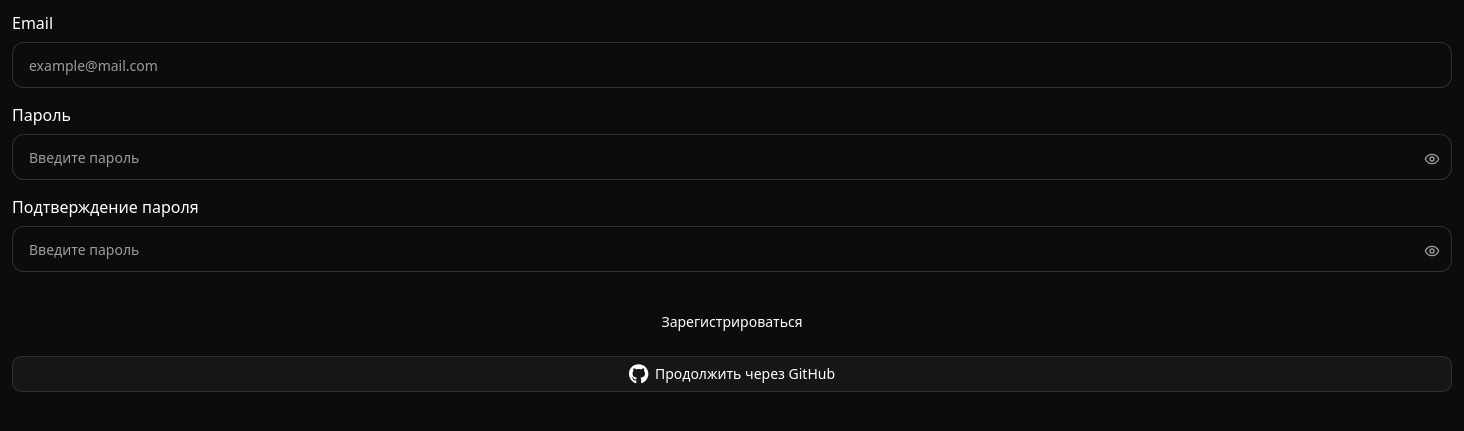
Test: RegisterForm Integration Flow (T032) › validation: блокирует отправку при пустом email
The image size is (1464, 431).
Type "Password12345!" into the password field labelled "Пароль" at (732, 157), box [12,134,1452,180]
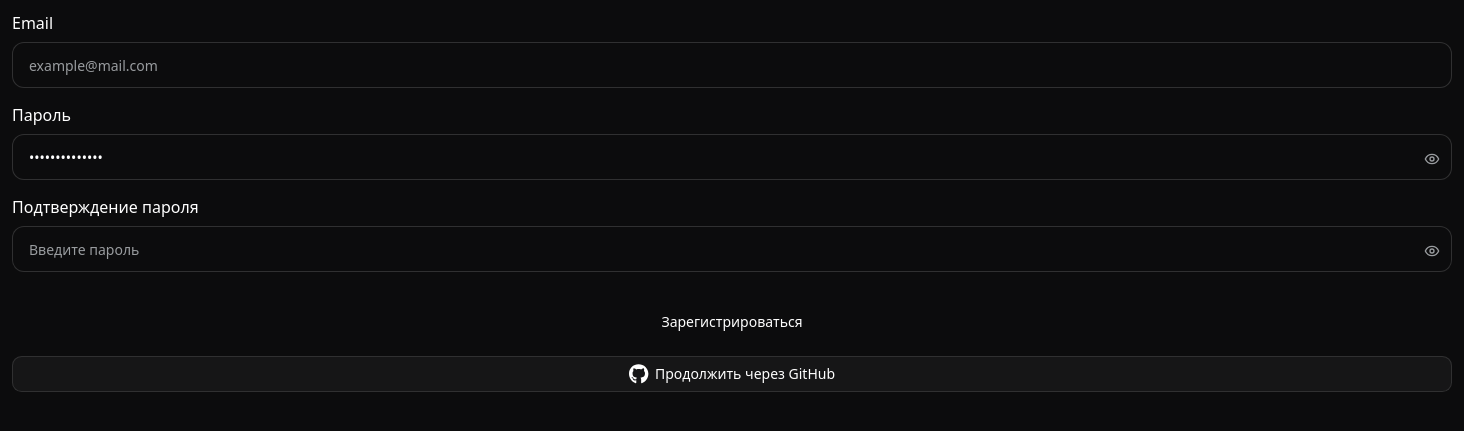
Type "Password12345!" into the password field labelled "Подтверждение пароля" at (732, 249), box [12,226,1452,272]
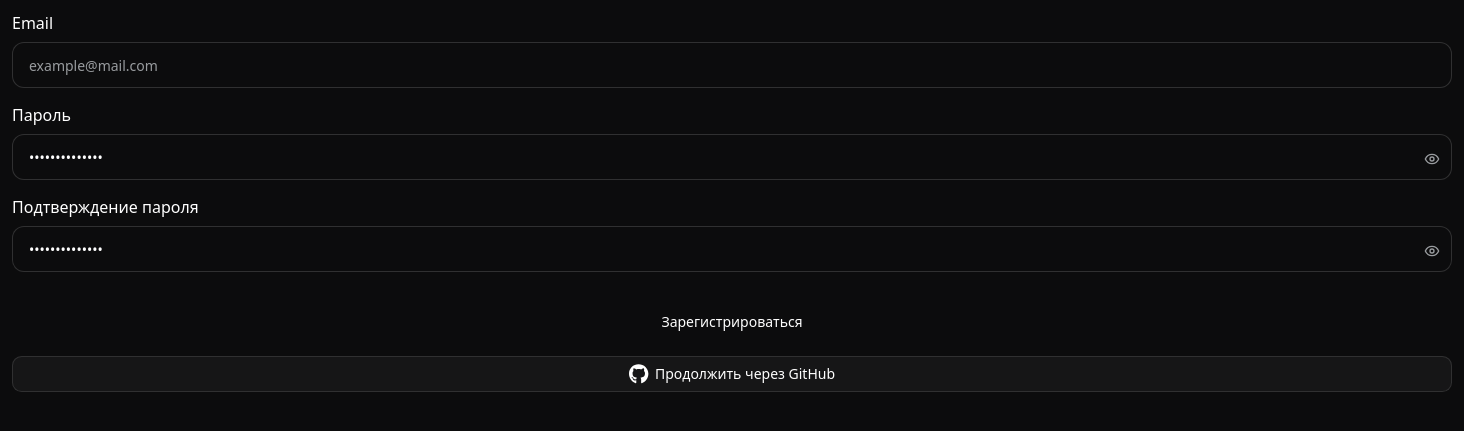
Click the button "Зарегистрироваться" at (732, 322), box [12,304,1452,340]
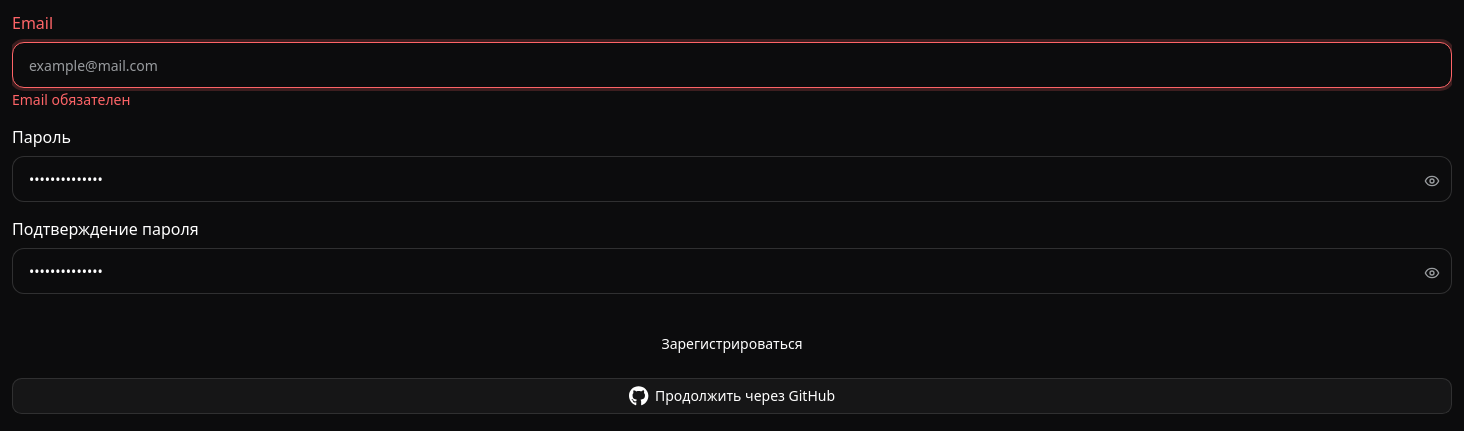
Expected: the text "Email обязателен" is shown, [12,90,130,109]
